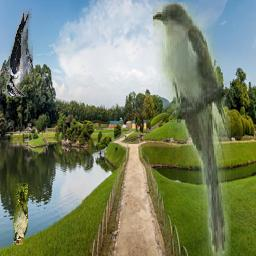Cuckoo: (153, 2, 231, 256)
Sparrow: (14, 183, 29, 245)
Woodpecker: (3, 9, 34, 98)
